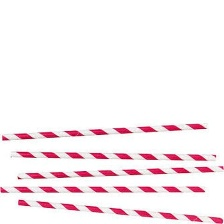drinking_straw: (0, 118, 212, 145), (13, 196, 224, 223)
